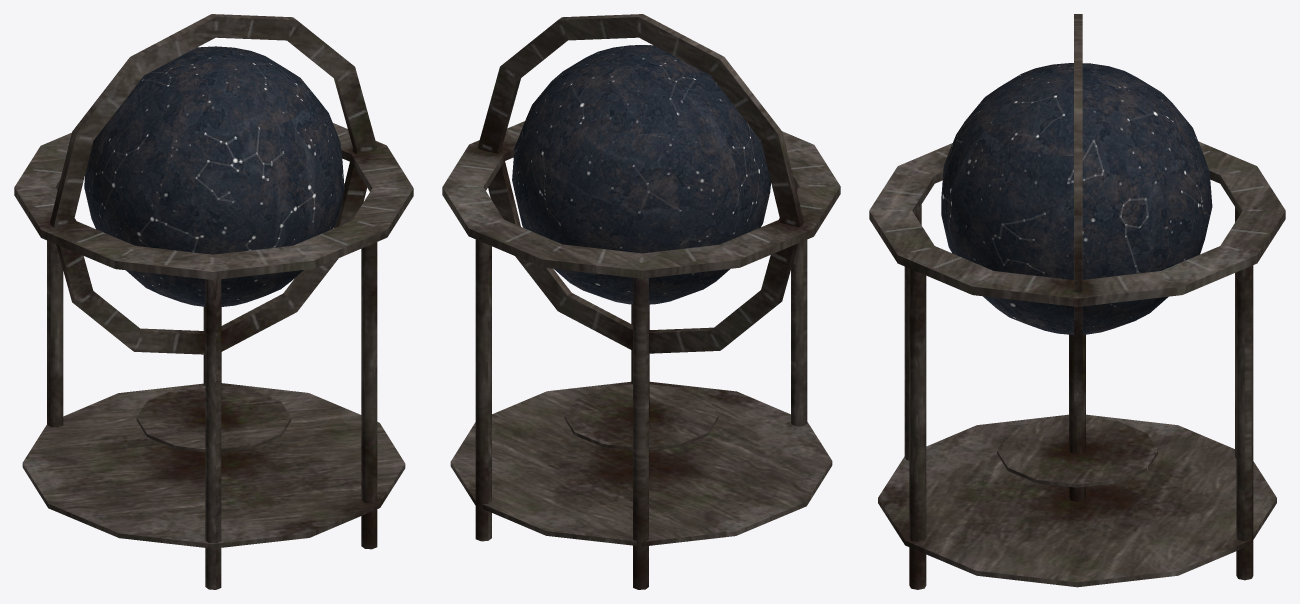
File: globe_a89e6f5e.glb
3 renders of one model, left to right at view 1: azimuth 30°, elevation 25°; view 2: azimuth 150°, elevation 25°; view 3: azimuth 270°, elevation 25°, orthographic. The views are drawn at different scales.
Parts seen in each view (by area): view 1: Globe stand_Globe stand_0, globe_globe_0; view 2: Globe stand_Globe stand_0, globe_globe_0; view 3: Globe stand_Globe stand_0, globe_globe_0.
Boxes of the visible parts, x1,y1,x2,y2 form: Globe stand_Globe stand_0: (14,14,413,589); globe_globe_0: (84,46,344,306); Globe stand_Globe stand_0: (442,14,840,589); globe_globe_0: (512,45,771,304); Globe stand_Globe stand_0: (869,14,1285,589); globe_globe_0: (941,63,1212,334).
Size of the model in its own units: 5.16 by 7.07 by 5.16.
Materials: 2 (2 with a texture image).
